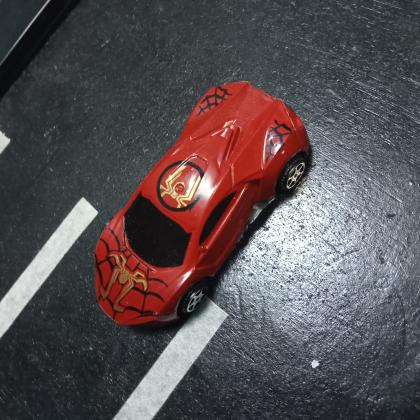Car: (93, 78, 312, 328)
